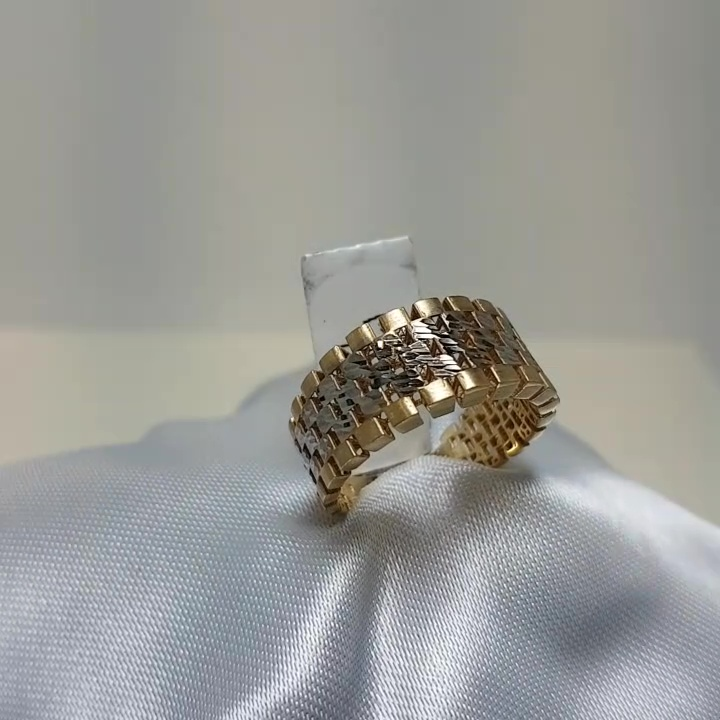Ring 1: (269, 282, 577, 529)
